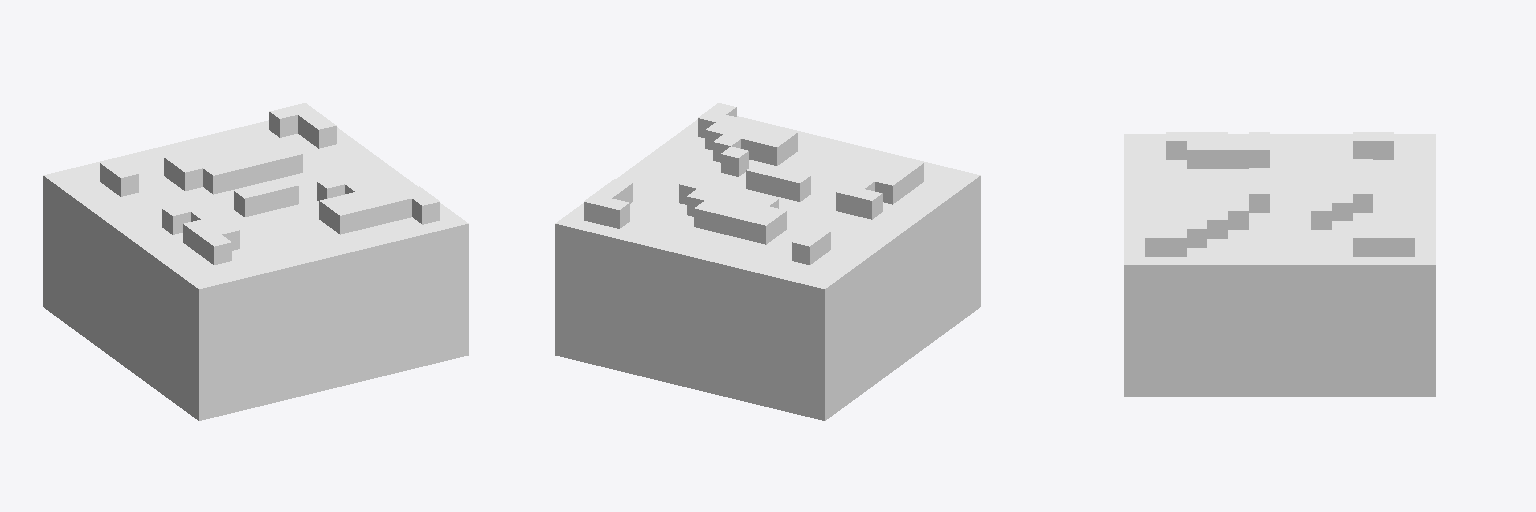
3 views of the same model, side by side, from view 1: azimuth 30°, elevation 25°; view 2: azimuth 150°, elevation 25°; view 3: azimuth 270°, elevation 25° (orthographic).
Visible parts, largest first — view 1: ObjObject; view 2: ObjObject; view 3: ObjObject.
Part boxes in pixels (x1,y1,x2,y2): ObjObject: (43,103,468,420); ObjObject: (555,103,980,420); ObjObject: (1124,132,1435,396).
Bounding box in the file's own units: 1.5 × 0.8 × 1.5.